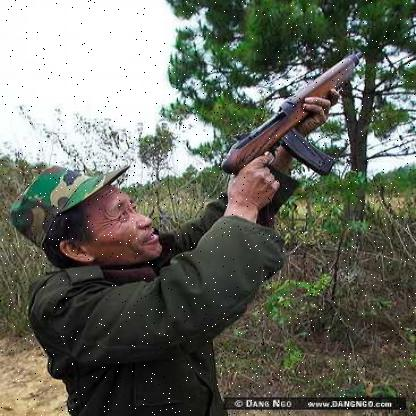rifle: (224, 42, 377, 216)
